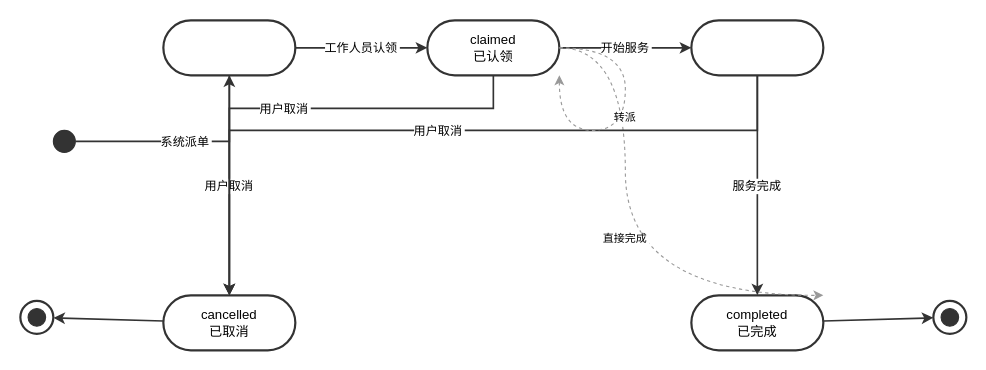
This 986x370 diagram has some shape labels left out. Each missing label, with the box of its shape:
dispatched 已派单: (162, 19, 296, 76)
processing 服务中: (690, 19, 824, 76)
